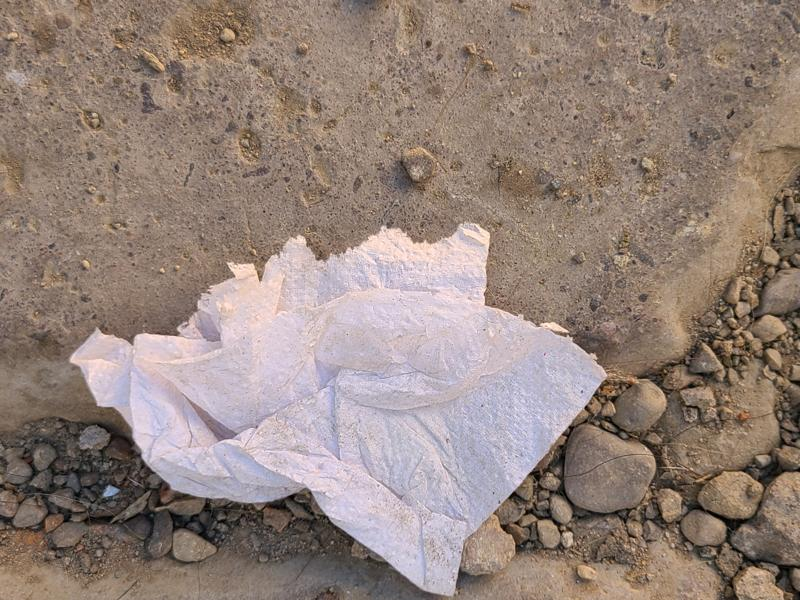papel: (67, 223, 608, 599)
